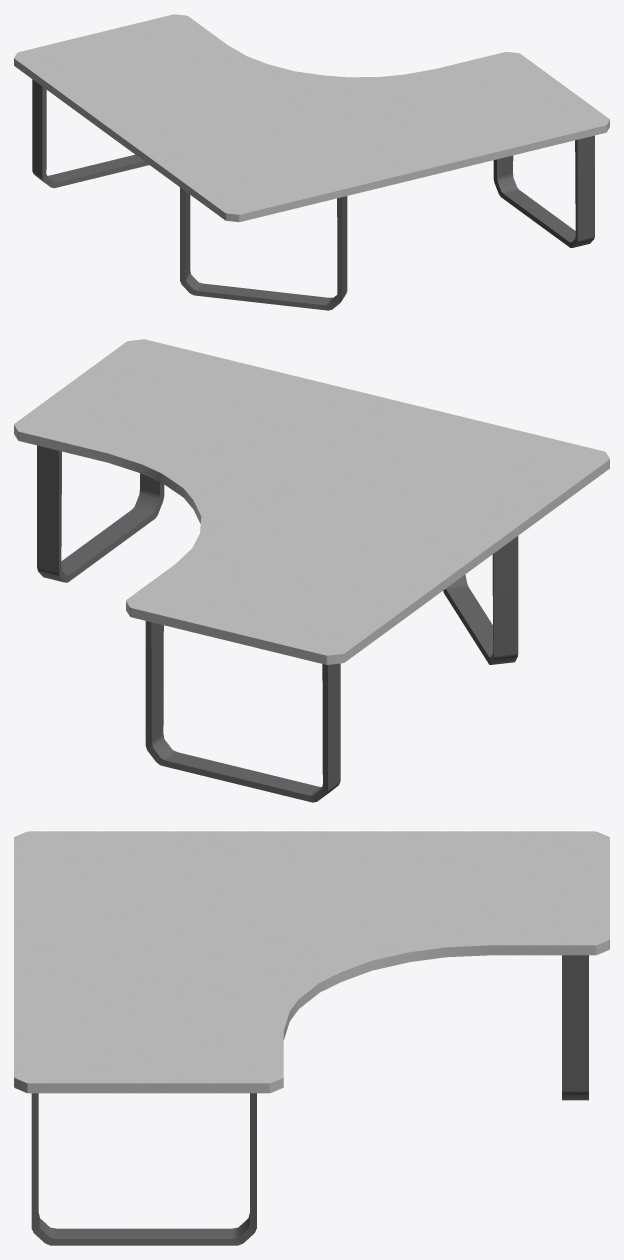
Rendered from SM_desk_a_corner_250_250.fbx.
The picture shows the model from 3 angles, top to bottom: view 1: azimuth 30°, elevation 25°; view 2: azimuth 150°, elevation 25°; view 3: azimuth 270°, elevation 25°; orthographic projection. The views are drawn at different scales.
Parts seen in each view (by area): view 1: polySurface702, polySurface707; view 2: polySurface702, polySurface707; view 3: polySurface702, polySurface707.
Boxes of the visible parts, left/top/right/bottom form: polySurface702: left=14, top=14, right=609, bottom=222; polySurface707: left=32, top=79, right=594, bottom=310; polySurface702: left=14, top=339, right=609, bottom=664; polySurface707: left=37, top=445, right=518, bottom=802; polySurface702: left=14, top=831, right=609, bottom=1093; polySurface707: left=31, top=955, right=588, bottom=1245.
Size of the model in its own units: 2.37 by 0.75 by 2.37.
